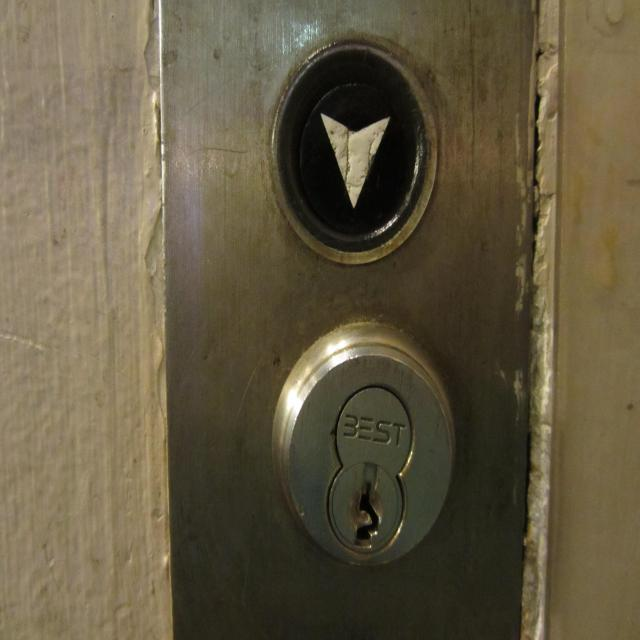down: (270, 40, 438, 266)
keyhole: (268, 316, 460, 570)
